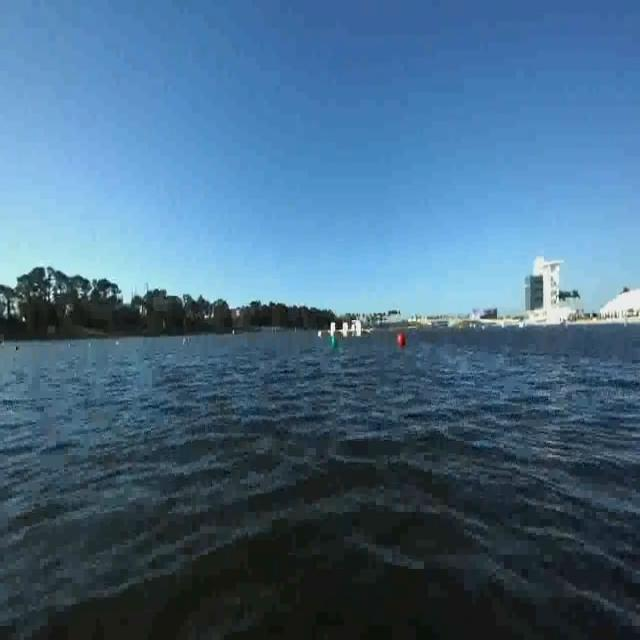green-buoy: (331, 335, 338, 349)
red-buoy: (397, 334, 405, 348)
